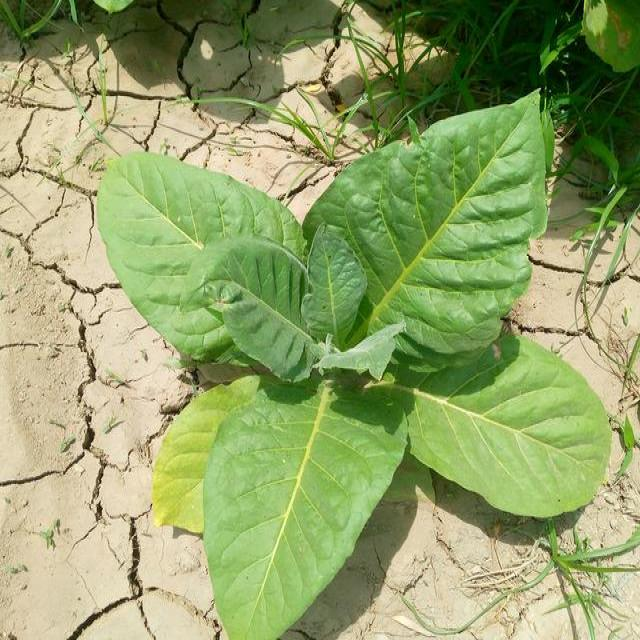crop: (93, 131, 616, 629)
